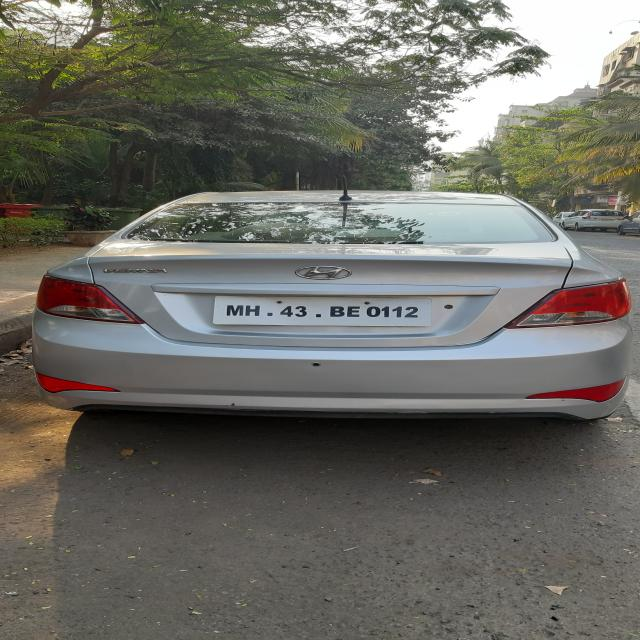Number-Plate: (210, 293, 430, 325)
